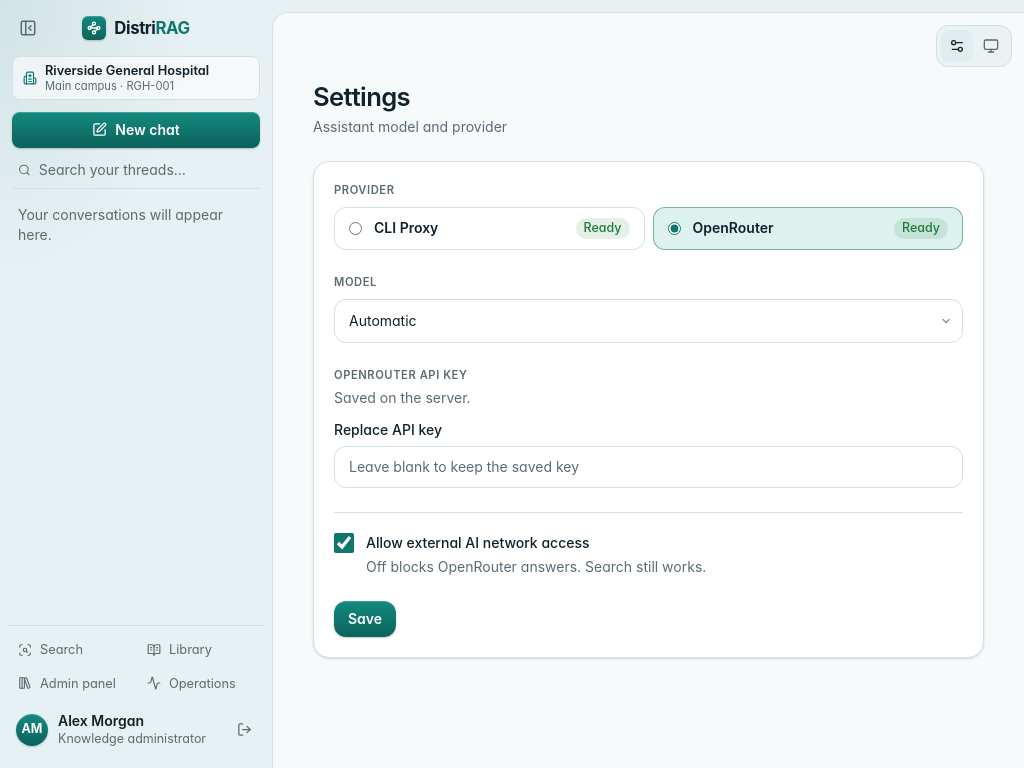
Test: changing the model preserves the key when the replacement is blank
Select "Example free model" in the dropdown labelled "Model" at (648, 321), box x1=334 y1=299 x2=963 y2=343
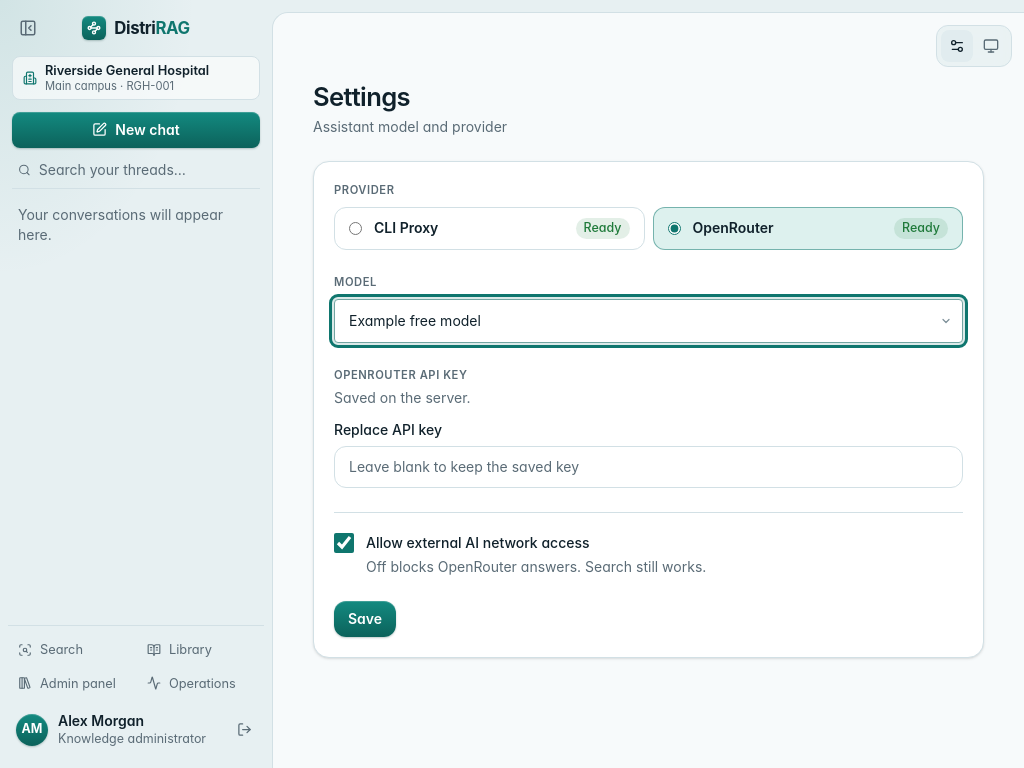
Click the button "Save".
click(365, 619)  # box x1=334 y1=601 x2=396 y2=637
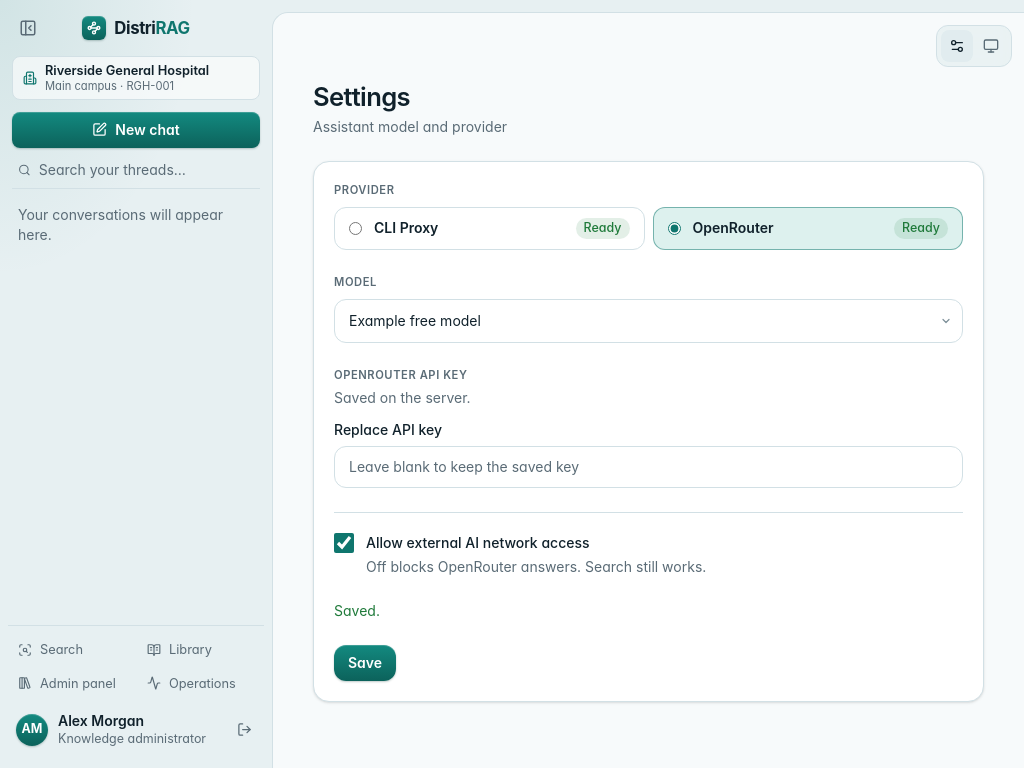
Expected: the password field labelled "Replace API key" is empty, x1=334 y1=446 x2=963 y2=488
Now the text "Saved." is shown, box x1=334 y1=602 x2=380 y2=619
